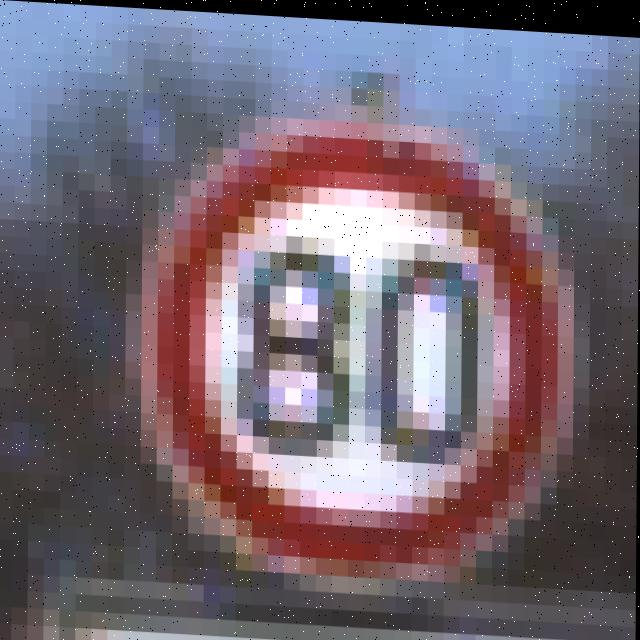speed_limit_80: (137, 121, 553, 606)
